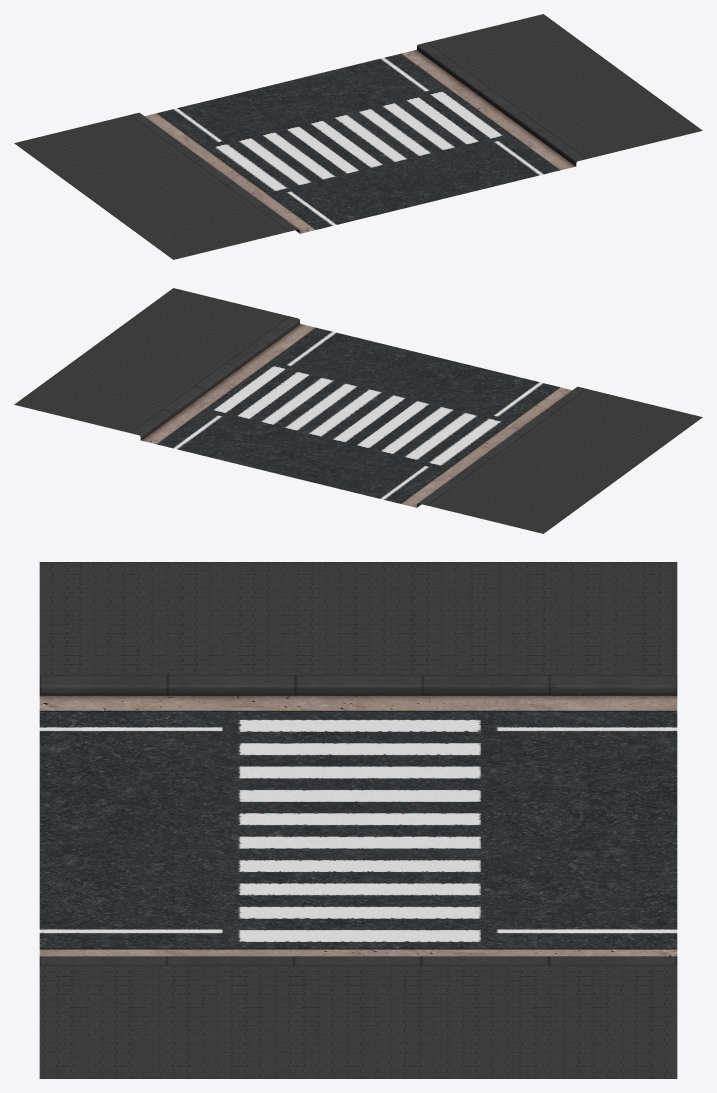
The model's file is or_cross1.fbx.
3 renders of one model, top to bottom at view 1: azimuth 30°, elevation 25°; view 2: azimuth 150°, elevation 25°; view 3: azimuth 270°, elevation 25°, orthographic. The views are drawn at different scales.
Parts seen in each view (by area): view 1: obj0; view 2: obj0; view 3: obj0.
Part boxes in pixels (bbox=[...]): obj0: bbox=[14, 14, 702, 259]; obj0: bbox=[14, 288, 702, 533]; obj0: bbox=[39, 562, 677, 1078].
Size of the model in its own units: 29.21 by 0.254 by 15.24.
